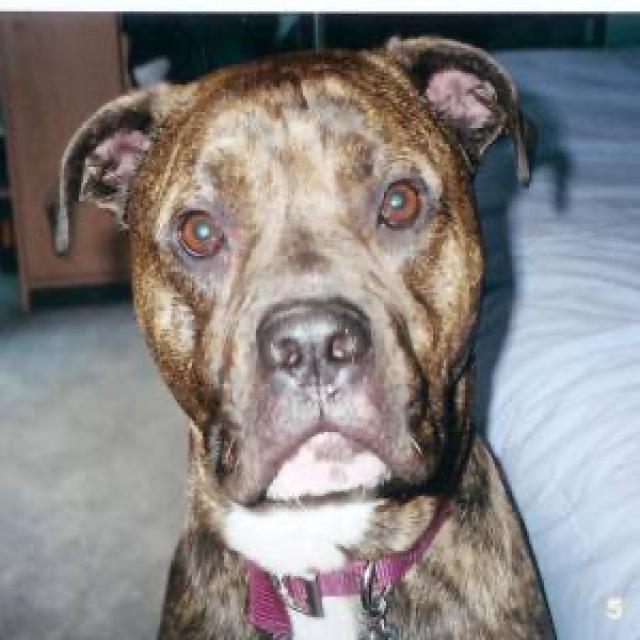dog: (43, 34, 533, 503)
